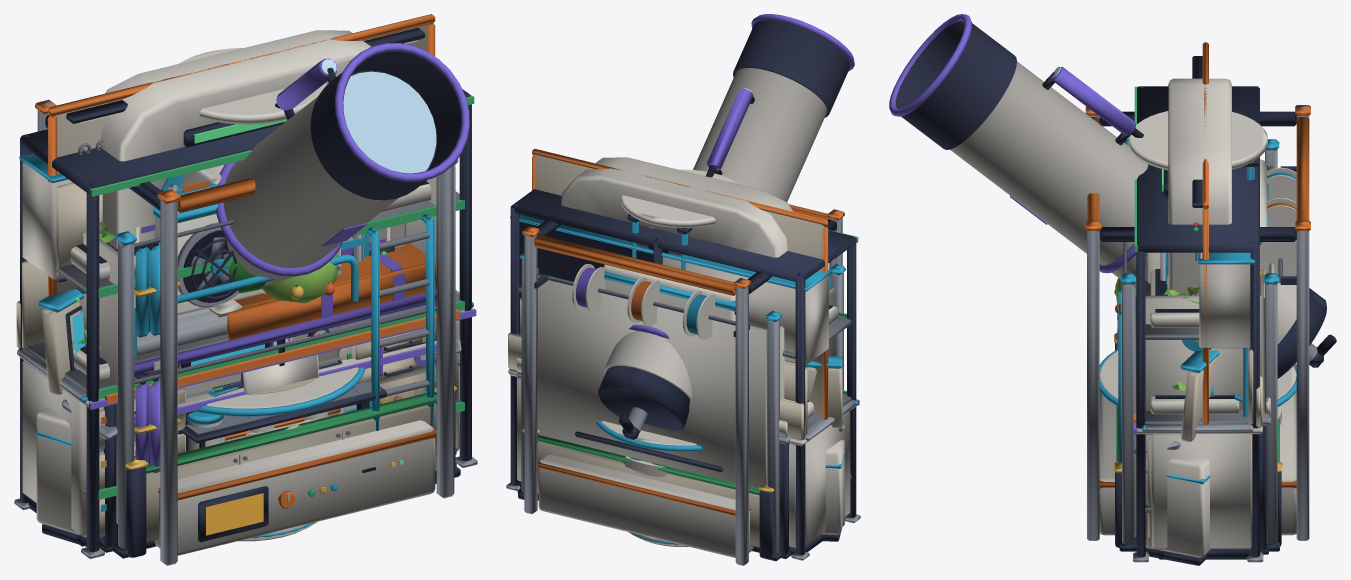
The model's file is interior.glb.
The picture shows the model from 3 angles, left to right: view 1: azimuth 30°, elevation 25°; view 2: azimuth 150°, elevation 25°; view 3: azimuth 270°, elevation 25°; orthographic projection. The views are drawn at different scales.
Visible parts, largest first — view 1: telescope, printer_3d, bunk_bed, plant_rack, airlock_door, galley, garden_bed, cockpit_console, air_machine, tool_wall, workbench, table_round (+7 smaller); view 2: printer_3d, bunk_bed, telescope, plant_rack, galley, airlock_door, tool_wall, garden_bed, cockpit_console, lab_bench, hatch_ladder, air_machine (+3 smaller); view 3: telescope, printer_3d, plant_rack, galley, bunk_bed, airlock_door, cockpit_console, hatch_ladder, tool_wall, table_round, garden_bed, workbench (+2 smaller).
Boxes of the visible parts, left/top/right/bottom form: telescope: left=216, top=43, right=469, bottom=289; printer_3d: left=35, top=99, right=454, bottom=565; bunk_bed: left=76, top=159, right=460, bottom=558; plant_rack: left=14, top=89, right=477, bottom=558; airlock_door: left=100, top=30, right=405, bottom=301; galley: left=19, top=153, right=473, bottom=546; garden_bed: left=125, top=379, right=456, bottom=557; cockpit_console: left=35, top=289, right=461, bottom=546; air_machine: left=153, top=187, right=341, bottom=451; tool_wall: left=48, top=14, right=435, bottom=295; workbench: left=99, top=309, right=460, bottom=552; table_round: left=193, top=367, right=365, bottom=416; printer_3d: left=522, top=204, right=844, bottom=565; bunk_bed: left=518, top=252, right=845, bottom=561; telescope: left=598, top=14, right=854, bottom=439; plant_rack: left=506, top=189, right=860, bottom=560; galley: left=510, top=214, right=857, bottom=552; airlock_door: left=561, top=157, right=793, bottom=257; tool_wall: left=532, top=148, right=828, bottom=419; garden_bed: left=522, top=428, right=774, bottom=559; cockpit_console: left=805, top=356, right=845, bottom=541; lab_bench: left=508, top=332, right=859, bottom=554; hatch_ladder: left=621, top=169, right=737, bottom=270; air_machine: left=604, top=226, right=735, bottom=321; telescope: left=889, top=14, right=1336, bottom=378; printer_3d: left=1085, top=105, right=1310, bottom=540; plant_rack: left=1133, top=86, right=1263, bottom=562; galley: left=1142, top=252, right=1254, bottom=559; bunk_bed: left=1117, top=139, right=1279, bottom=551; airlock_door: left=1162, top=78, right=1231, bottom=295; cockpit_console: left=1133, top=350, right=1219, bottom=565; hatch_ladder: left=1128, top=111, right=1267, bottom=180; tool_wall: left=1192, top=42, right=1208, bottom=424; table_round: left=1099, top=349, right=1296, bottom=406; garden_bed: left=1114, top=333, right=1282, bottom=547; workbench: left=1133, top=397, right=1270, bottom=554.
Size of the model in its own units: 2.6 by 3.35 by 2.82.
